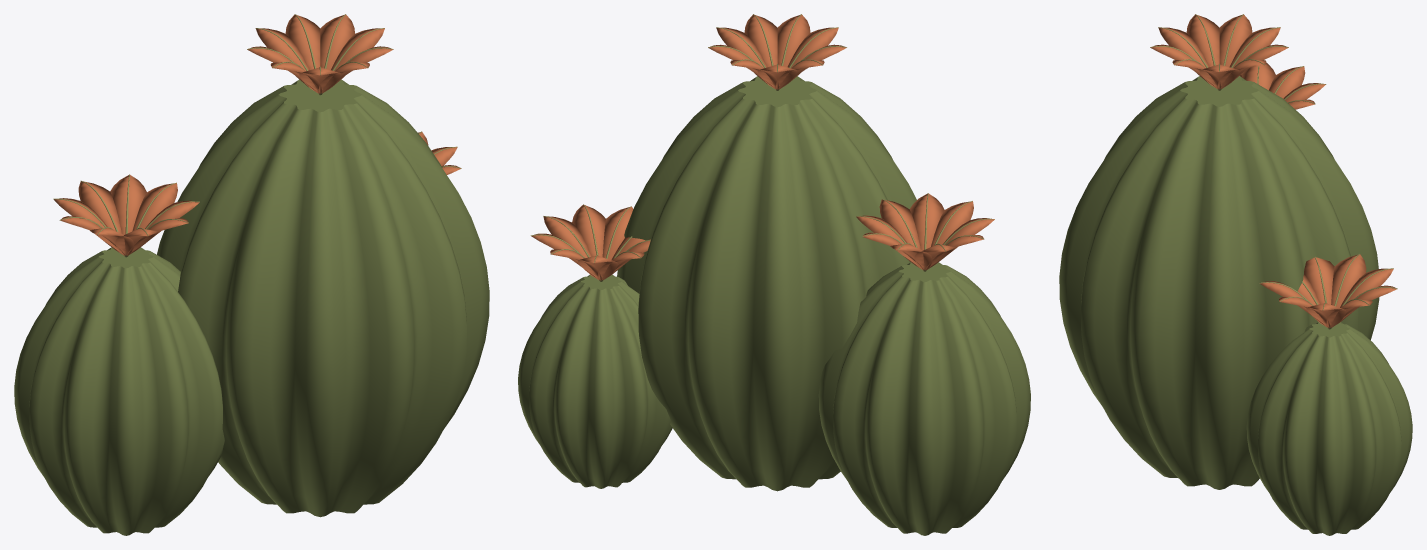
Rendered from kharon_barrel_bloom.glb.
The picture shows the model from 3 angles, left to right: view 1: azimuth 30°, elevation 25°; view 2: azimuth 150°, elevation 25°; view 3: azimuth 270°, elevation 25°; orthographic projection. The views are drawn at different scales.
Visible parts, largest first — view 1: kharon_barrel_bloom; view 2: kharon_barrel_bloom; view 3: kharon_barrel_bloom.
Boxes of the visible parts, bbox=[...] form: kharon_barrel_bloom: bbox=[14, 14, 489, 535]; kharon_barrel_bloom: bbox=[518, 14, 1030, 535]; kharon_barrel_bloom: bbox=[1059, 14, 1412, 535].
Bounding box in the file's own units: 7.07 × 6.34 × 4.81.
